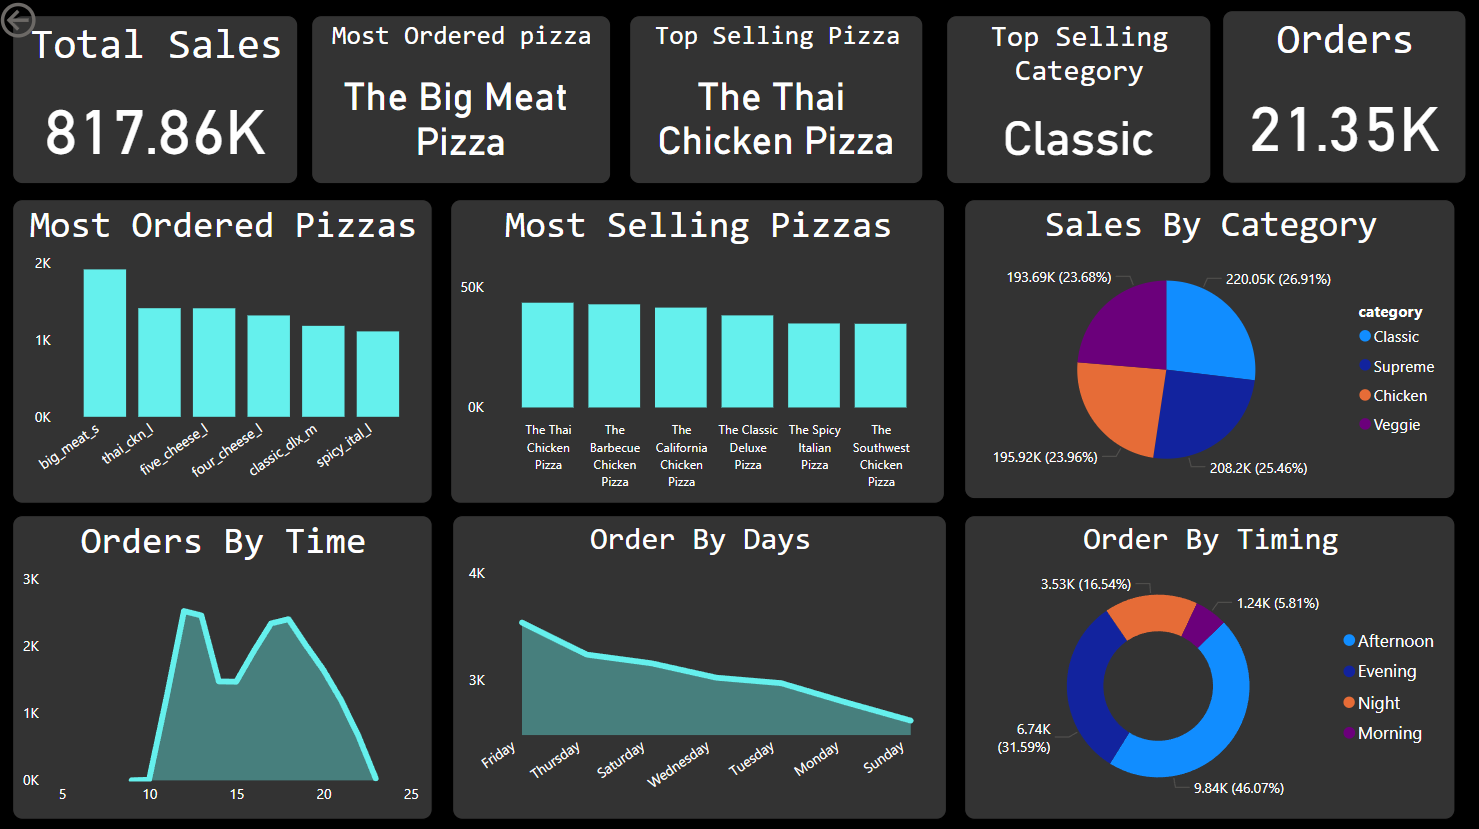

The dashboard page shown, as its layout file describes it:
{"tool":"powerbi","page":{"name":"Page 2","canvas":[1280,720],"ordinal":0},"visuals":[{"type":"card","title":"Total Sales","fields":{"Values":["Pizza_Summary.sum_sales"]},"box":[14.3,15.7,247.1,145.7],"z":0},{"type":"card","title":"Most Ordered pizza","fields":{"Values":["pizzas.Most Ordered Pizza"]},"box":[272.9,15.7,258.6,145.7],"z":1000},{"type":"card","title":"Top Selling Pizza","fields":{"Values":["Pizza_Summary.Top_Selling_Pizza"]},"box":[547.1,15.7,254.3,145.7],"z":2000},{"type":"card","title":"Top Selling Category","fields":{"Values":["order_details.Top Selling Category"]},"box":[820,15.7,228.6,145.7],"z":3000},{"type":"columnChart","title":"Most Ordered Pizzas","fields":{"Category":["pizzas.pizza_id"],"Y":["Sum(Pizza_Summary.Total_Quantity_Per_Pizza)"]},"box":[14.3,174.3,362.9,262.9],"z":4000},{"type":"actionButton","box":[0,0,100,40],"z":5000},{"type":"columnChart","title":"Most Selling Pizzas","fields":{"Category":["Pizza_type.name"],"Y":["Sum(Pizza_Summary.Total_Sales)"]},"box":[392.9,174.3,427.1,262.9],"z":6000},{"type":"pieChart","title":"Sales By Category","fields":{"Category":["Pizza_type.category"],"Y":["Sum(Pizza_Summary.Total_Sales)"]},"box":[835.7,174.3,424.3,258.6],"z":7000},{"type":"areaChart","title":"Orders By Time","fields":{"Category":["Orders.Hour"],"Y":["CountNonNull(Orders.order_id)"]},"box":[14.3,447.1,362.9,262.9],"z":8000},{"type":"areaChart","title":"Order By Days","fields":{"Category":["Orders.Day Name"],"Y":["CountNonNull(Orders.order_id)"]},"box":[394.3,447.1,427.1,262.9],"z":9000},{"type":"donutChart","title":"Order By Timing","fields":{"Category":["Orders.timing"],"Y":["CountNonNull(Orders.order_id)"]},"box":[836,447,424,263],"z":10000},{"type":"card","title":"Orders","fields":{"Values":["CountNonNull(Orders.order_id)"]},"box":[1058.6,11.4,211.4,150],"z":11000}]}

Visuals, with their boxes in screenshot pixels (x1, y1, x2, y2), scaled from the page's 1280x720 canvas onto the 1479x829 screenshot:
"Total Sales" card: (x1=17, y1=18, x2=302, y2=186)
"Most Ordered pizza" card: (x1=315, y1=18, x2=614, y2=186)
"Top Selling Pizza" card: (x1=632, y1=18, x2=926, y2=186)
"Top Selling Category" card: (x1=947, y1=18, x2=1212, y2=186)
"Most Ordered Pizzas" columnChart: (x1=17, y1=201, x2=436, y2=503)
actionButton: (x1=0, y1=0, x2=116, y2=46)
"Most Selling Pizzas" columnChart: (x1=454, y1=201, x2=947, y2=503)
"Sales By Category" pieChart: (x1=966, y1=201, x2=1456, y2=498)
"Orders By Time" areaChart: (x1=17, y1=515, x2=436, y2=817)
"Order By Days" areaChart: (x1=456, y1=515, x2=949, y2=817)
"Order By Timing" donutChart: (x1=966, y1=515, x2=1456, y2=817)
"Orders" card: (x1=1223, y1=13, x2=1467, y2=186)
